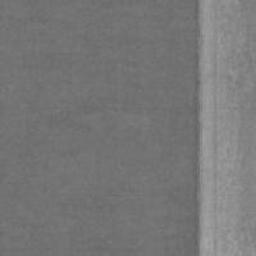Welding line: (191, 0, 202, 256)
